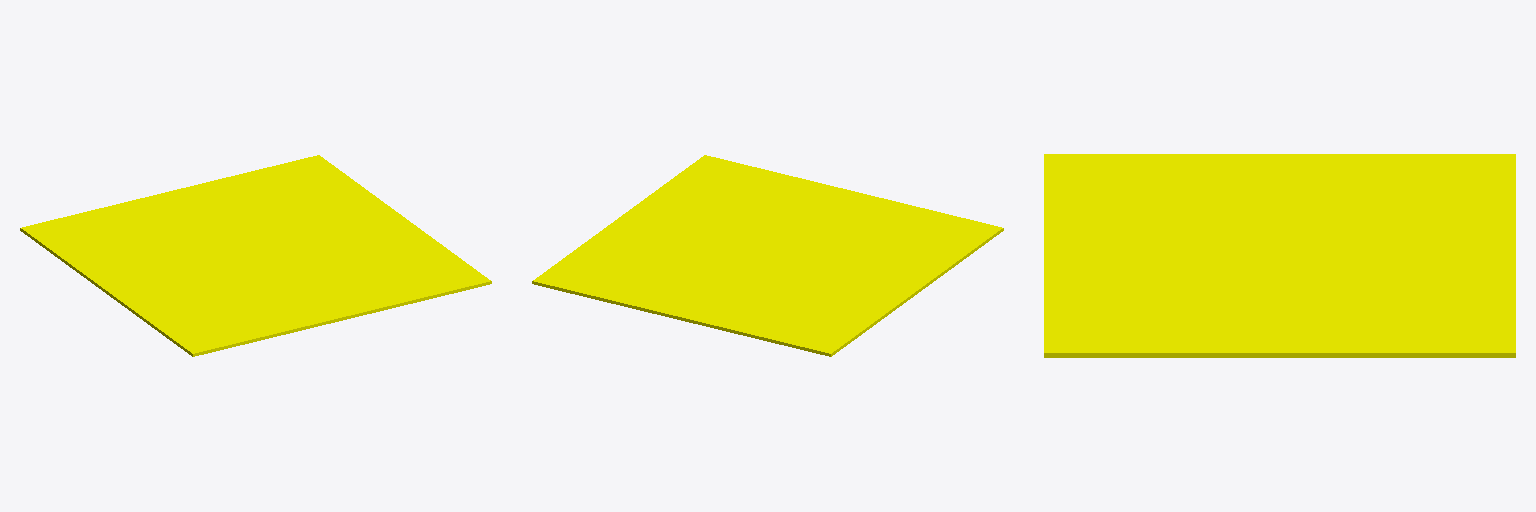
URDF robot description (urdf_robot1):
<?xml version="1.0" ?>
<!-- =================================================================================== -->
<!-- |    This document was autogenerated by xacro from /root/gpdhydra_ws/src/gpd_ros/urdf/gallery_first_level_floor.xacro | -->
<!-- |    EDITING THIS FILE BY HAND IS NOT RECOMMENDED                                 | -->
<!-- =================================================================================== -->
<robot name="urdf_robot1">
  <link name="floor">
    <inertial>
      <origin xyz="0 0 0" /> 
      <mass value="0.0" />
      <inertia  ixx="1.0" ixy="0.0"  ixz="0.0"  iyy="100.0"  iyz="0.0"  izz="1.0" />
    </inertial>
    <visual>
      <origin  rpy="0 0 0" xyz="0 0 0.05"/>
      <geometry>
        <box size="5 5 0.05" />
      </geometry>
      <material name="yellow">
        <color rgba="1 1 0 1"/>
        <specular rgb="11 1 1" />
      </material>
    </visual>
    <collision>
      <origin  rpy="0 0 0" xyz="0 0 0.05"/>
      <geometry>
        <box size="5 5 0.1" />
      </geometry>
    </collision>
  </link>
</robot>

--- What the picture shows (computed from the rendered views, not written in the file) ---
The picture shows the robot from 3 angles, left to right: view 1: azimuth 30°, elevation 25°; view 2: azimuth 150°, elevation 25°; view 3: azimuth 270°, elevation 25°; orthographic projection.
Model urdf_robot1 with 1 links and 0 joints (none), rooted at floor, posed every joint at zero.
Visible links, largest first — view 1: floor; view 2: floor; view 3: floor.
Boxes of the visible links, x1,y1,x2,y2 form: floor: (20,155,491,356); floor: (532,155,1003,356); floor: (1044,154,1515,357).
Bounding box of the posed robot: 5 × 5 × 0.05 m (x, y, z).
Geometry: primitives only (box / cylinder / sphere), no mesh files.